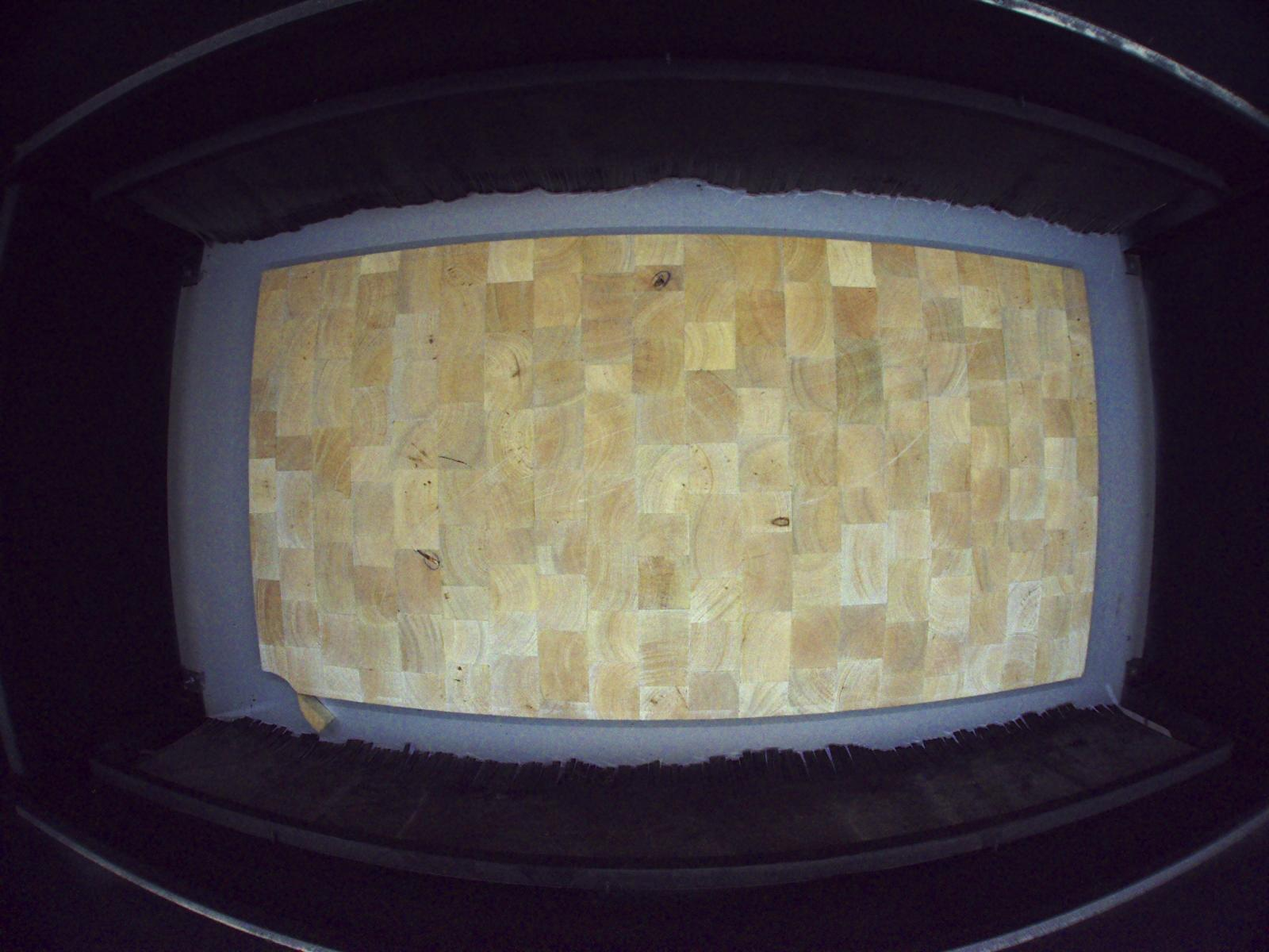nudillo: (653, 273, 668, 290)
